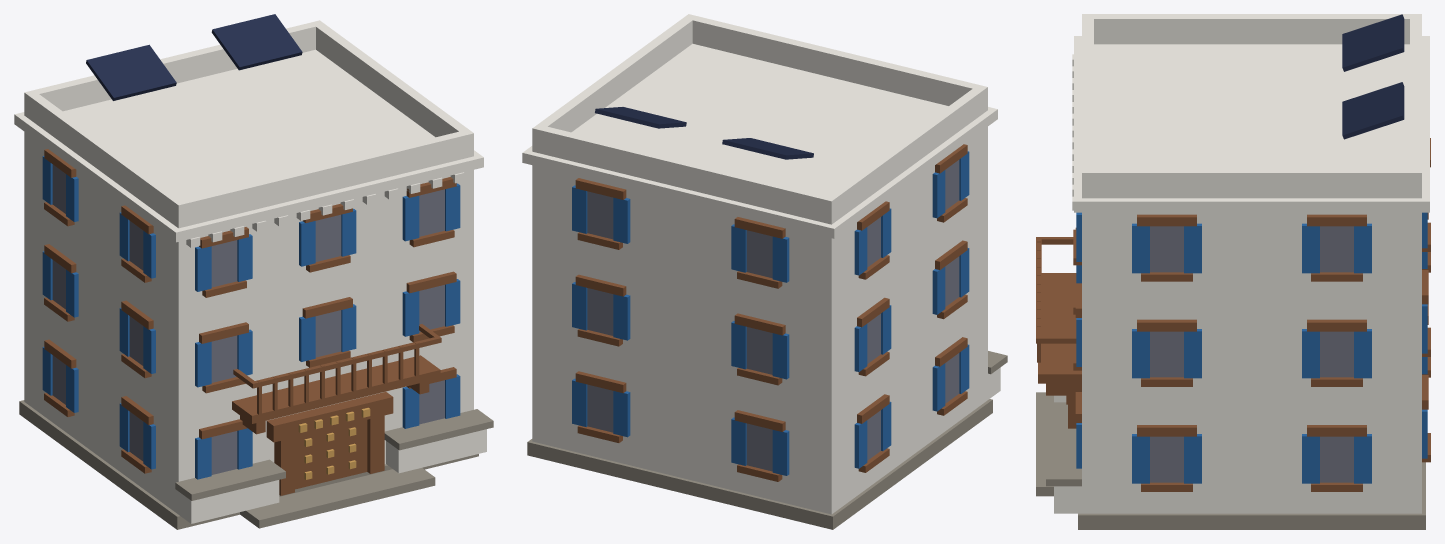
The model's file is house-1x1-3f-swahili-a-solar.glb.
3 views of the same model, side by side, from view 1: azimuth 30°, elevation 25°; view 2: azimuth 150°, elevation 25°; view 3: azimuth 270°, elevation 25° (orthographic). The views are drawn at different scales.
Visible parts, largest first — view 1: house-1x1-3f-swahili-a-solar; view 2: house-1x1-3f-swahili-a-solar; view 3: house-1x1-3f-swahili-a-solar.
Part boxes in pixels (left/top/right/bottom): house-1x1-3f-swahili-a-solar: left=14, top=14, right=493, bottom=529; house-1x1-3f-swahili-a-solar: left=522, top=14, right=1007, bottom=529; house-1x1-3f-swahili-a-solar: left=1036, top=14, right=1430, bottom=529.
Size of the model in its own units: 0.984 by 1.06 by 0.987.
1 material, 1 textured.
